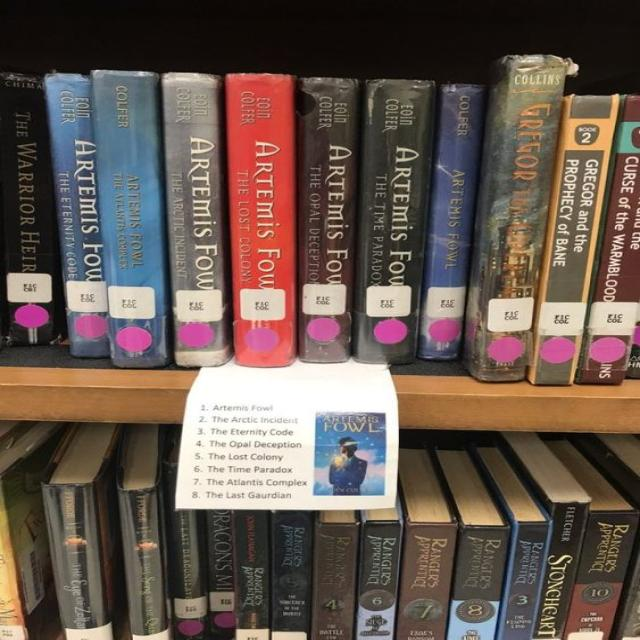book: (476, 55, 570, 383), (534, 97, 620, 385), (352, 78, 437, 364), (93, 70, 168, 367), (225, 73, 295, 366), (417, 85, 487, 359), (45, 72, 111, 357), (162, 72, 225, 367), (0, 73, 65, 346), (298, 76, 359, 363), (39, 484, 114, 640), (565, 511, 640, 640), (446, 524, 512, 640), (534, 501, 588, 640), (397, 521, 458, 640), (121, 488, 169, 639), (499, 521, 552, 640), (313, 521, 359, 640), (357, 520, 401, 640), (273, 511, 309, 640), (202, 509, 236, 640), (172, 510, 206, 640), (235, 509, 268, 640)
